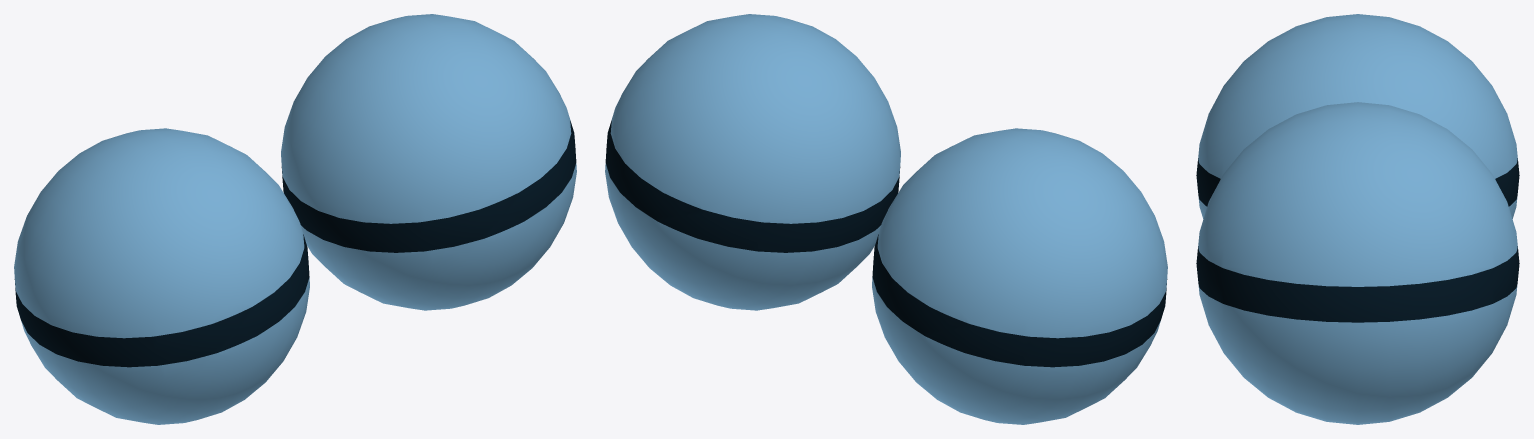
Rendered from twin_pellets.glb.
3 renders of one model, left to right at view 1: azimuth 30°, elevation 25°; view 2: azimuth 150°, elevation 25°; view 3: azimuth 270°, elevation 25°, orthographic. The views are drawn at different scales.
Visible parts, largest first — view 1: twin_pellets_l, twin_pellets_r; view 2: twin_pellets_l, twin_pellets_r; view 3: twin_pellets_r, twin_pellets_l.
Boxes of the visible parts, x1,y1,x2,y2 form: twin_pellets_l: [14, 128, 309, 424]; twin_pellets_r: [281, 14, 576, 310]; twin_pellets_l: [872, 128, 1167, 424]; twin_pellets_r: [605, 14, 900, 310]; twin_pellets_r: [1196, 102, 1519, 424]; twin_pellets_l: [1196, 14, 1519, 218].
Bounding box in the file's own units: 11.4 × 6.62 × 5.6.
